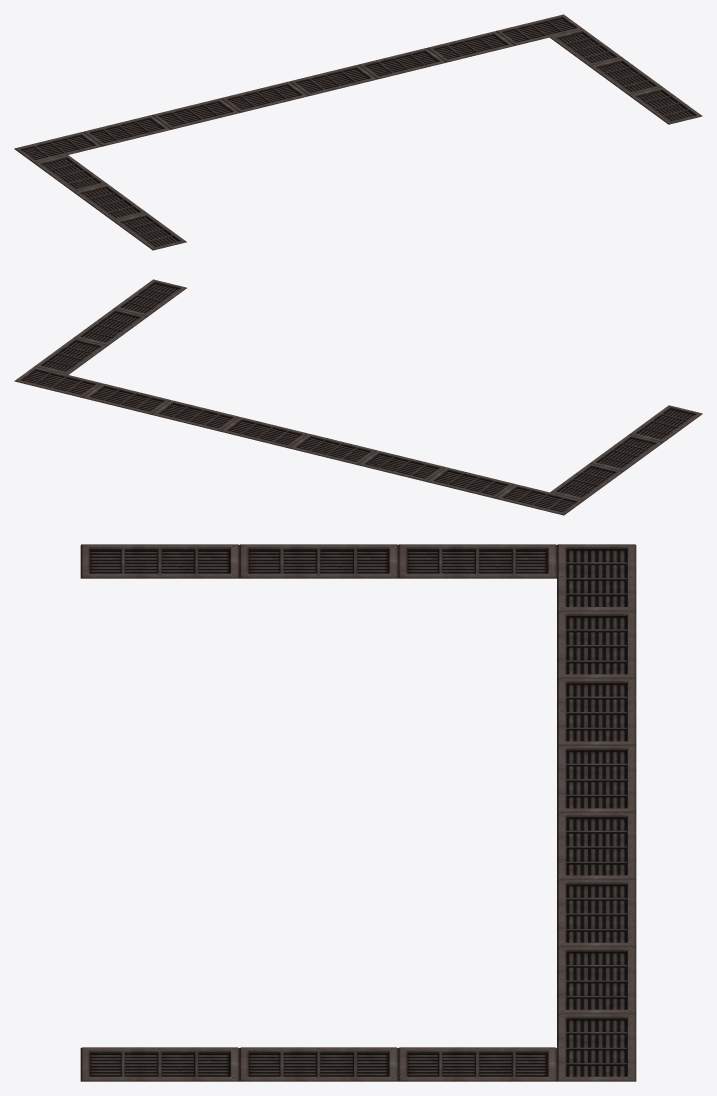
Rendered from Arena Area Rack Tiles 2.fbx.
3 renders of one model, top to bottom at view 1: azimuth 30°, elevation 25°; view 2: azimuth 150°, elevation 25°; view 3: azimuth 270°, elevation 25°, orthographic. The views are drawn at different scales.
Visible parts, largest first — view 1: Arena Area Rack Tiles 2; view 2: Arena Area Rack Tiles 2; view 3: Arena Area Rack Tiles 2.
Boxes of the visible parts, bbox=[...] form: Arena Area Rack Tiles 2: bbox=[14, 14, 702, 250]; Arena Area Rack Tiles 2: bbox=[14, 279, 702, 515]; Arena Area Rack Tiles 2: bbox=[80, 544, 636, 1081].
Bounding box in the file's own units: 48 × 0.1342 × 21.
